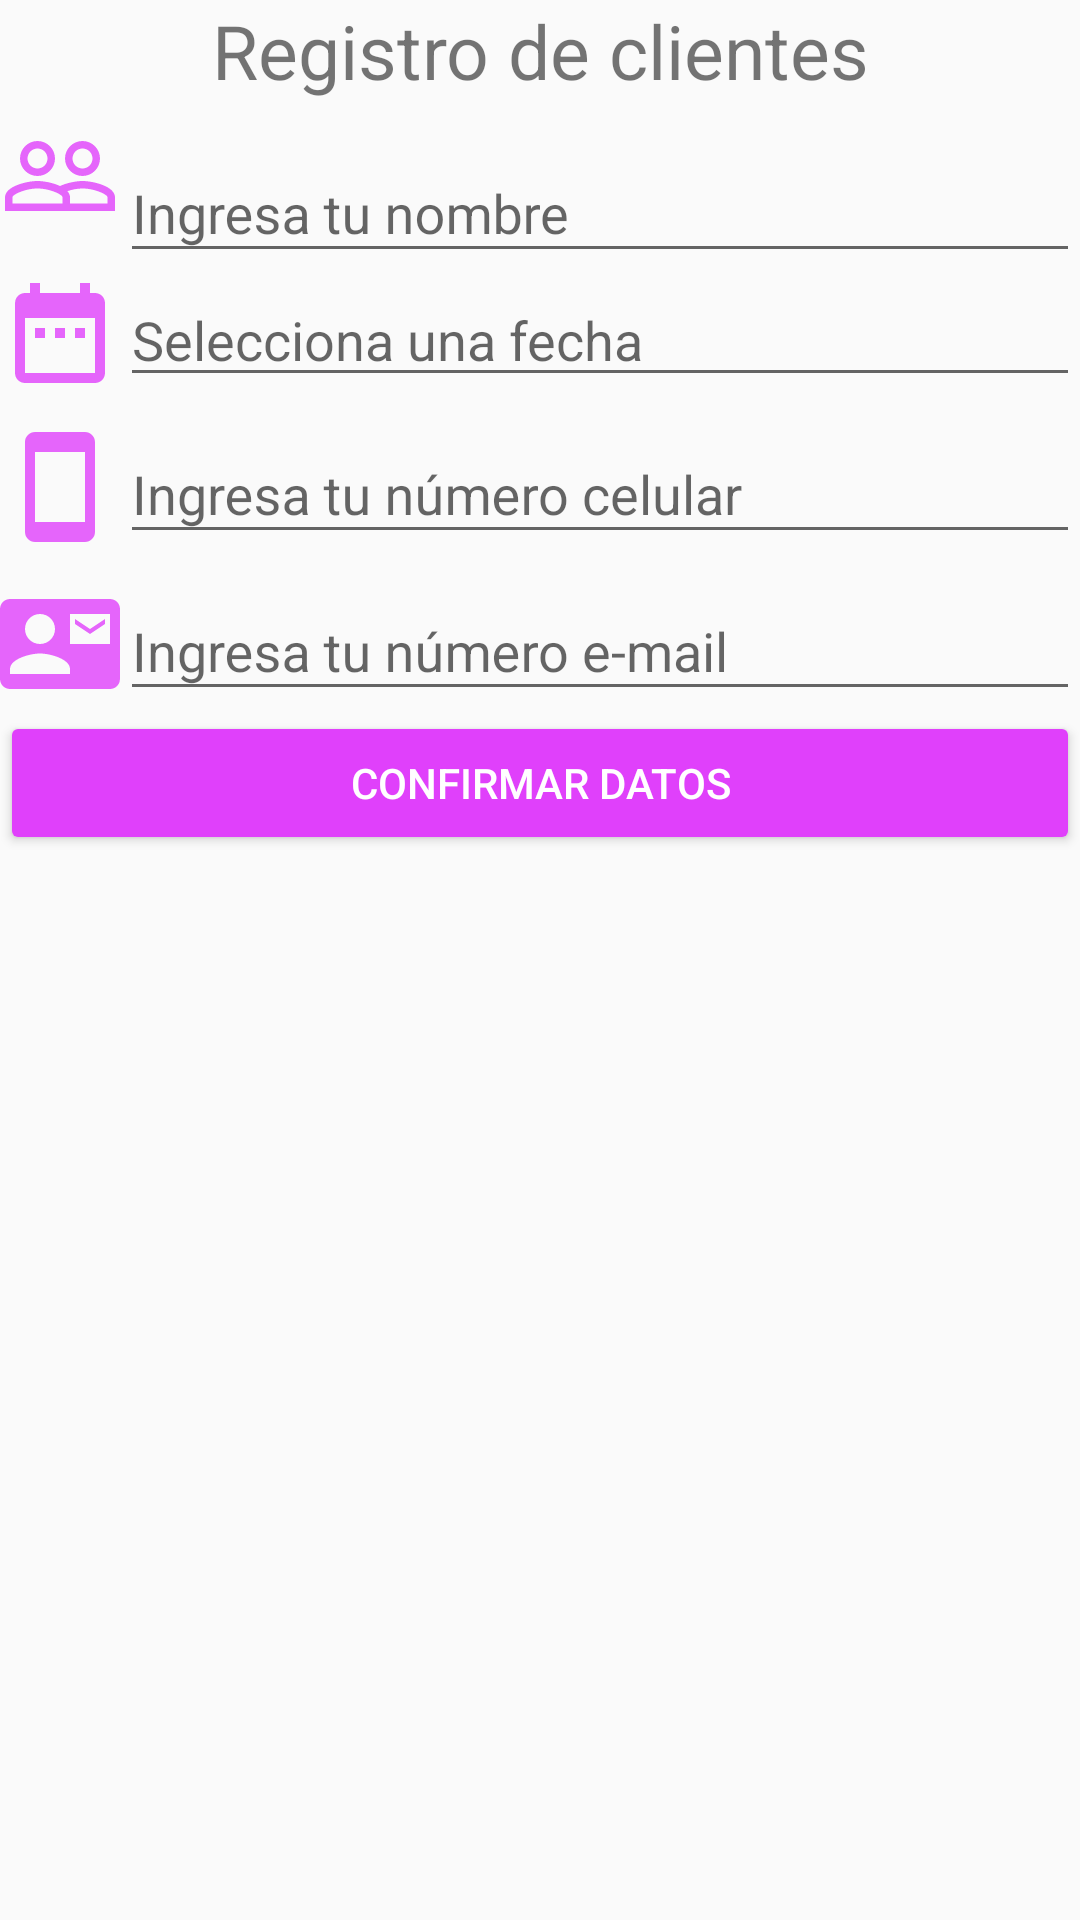

Icon click points for this 1080 × 1920 phone screenshot, format point (x, y):
date: point (60, 333)
phone: point (60, 487)
